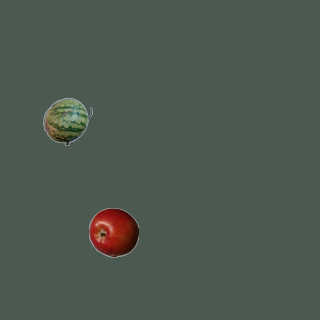Apple Braeburn: (88, 207, 138, 257)
Watermelon: (42, 96, 92, 146)
